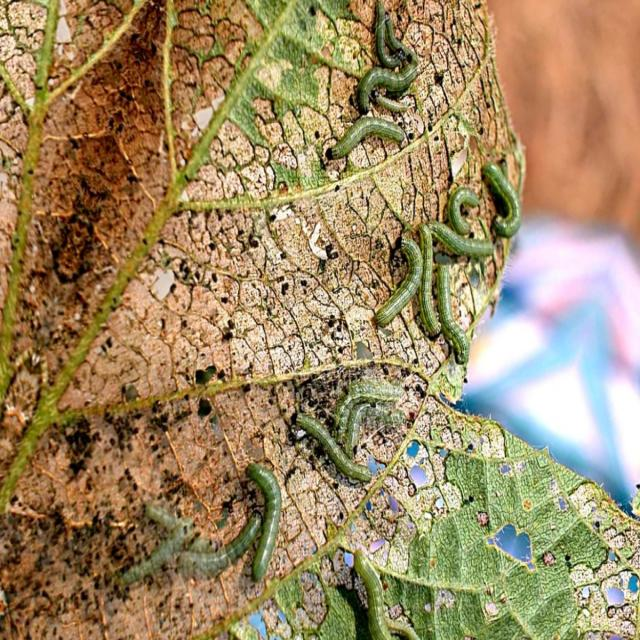Armyworm: (284, 394, 371, 538), (326, 104, 402, 198), (367, 216, 422, 335), (343, 63, 444, 121), (253, 458, 295, 577), (187, 522, 264, 583), (326, 382, 384, 458), (423, 168, 444, 356), (479, 161, 523, 238), (436, 187, 504, 233), (377, 13, 428, 74)
Armyworm_damage: (485, 512, 538, 590), (599, 576, 639, 616), (330, 542, 362, 585), (405, 439, 432, 489)
